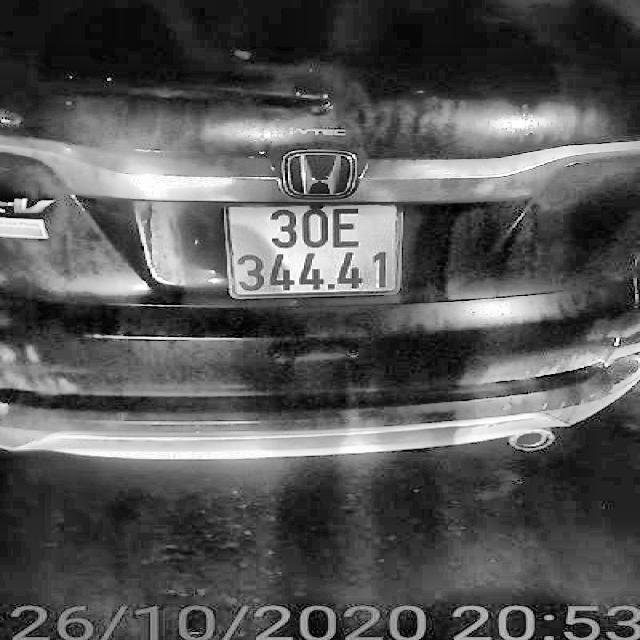plate: (214, 196, 410, 300)
